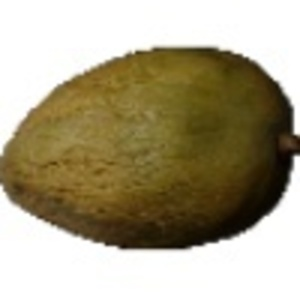mamão: (2, 33, 296, 259)
